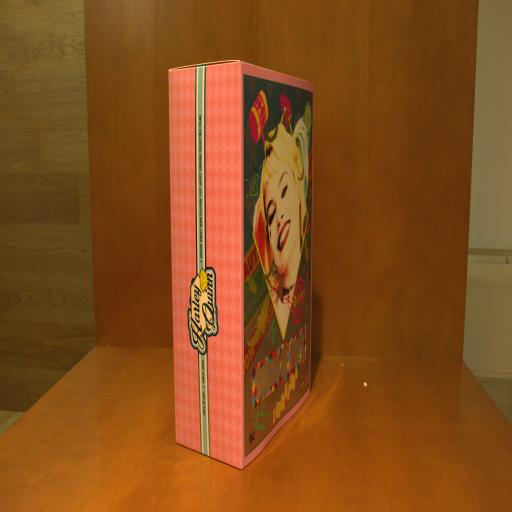Harley: (169, 60, 315, 470)
